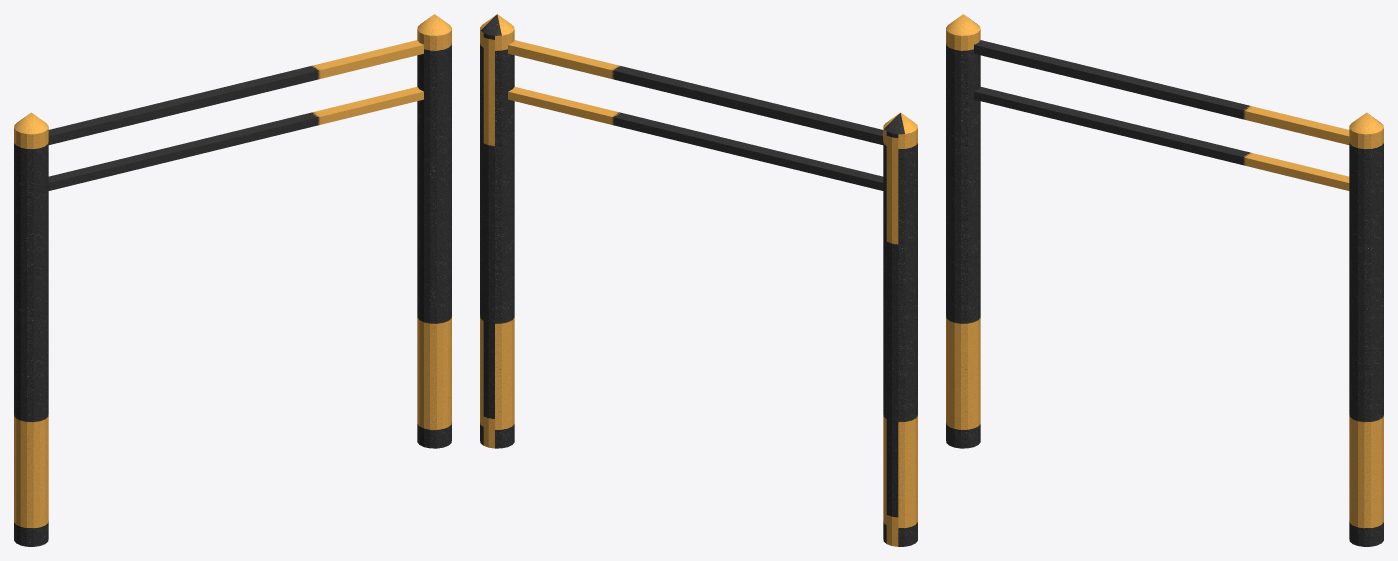
File: Fence_Tall.fbx
The picture shows the model from 3 angles, left to right: view 1: azimuth 30°, elevation 25°; view 2: azimuth 150°, elevation 25°; view 3: azimuth 330°, elevation 25°; orthographic projection.
Parts seen in each view (by area): view 1: Pole, Pole1, Fence_Tall; view 2: Pole, Pole1, Fence_Tall; view 3: Pole1, Pole, Fence_Tall.
Boxes of the visible parts, x1,y1,x2,y2 form: Pole: [14, 112, 48, 546]; Pole1: [417, 14, 451, 448]; Fence_Tall: [48, 40, 423, 190]; Pole: [883, 112, 917, 546]; Pole1: [480, 14, 514, 448]; Fence_Tall: [508, 40, 883, 190]; Pole1: [1349, 112, 1383, 546]; Pole: [946, 14, 980, 448]; Fence_Tall: [974, 40, 1349, 190].
Size of the model in its own units: 394 by 371 by 27.5.
